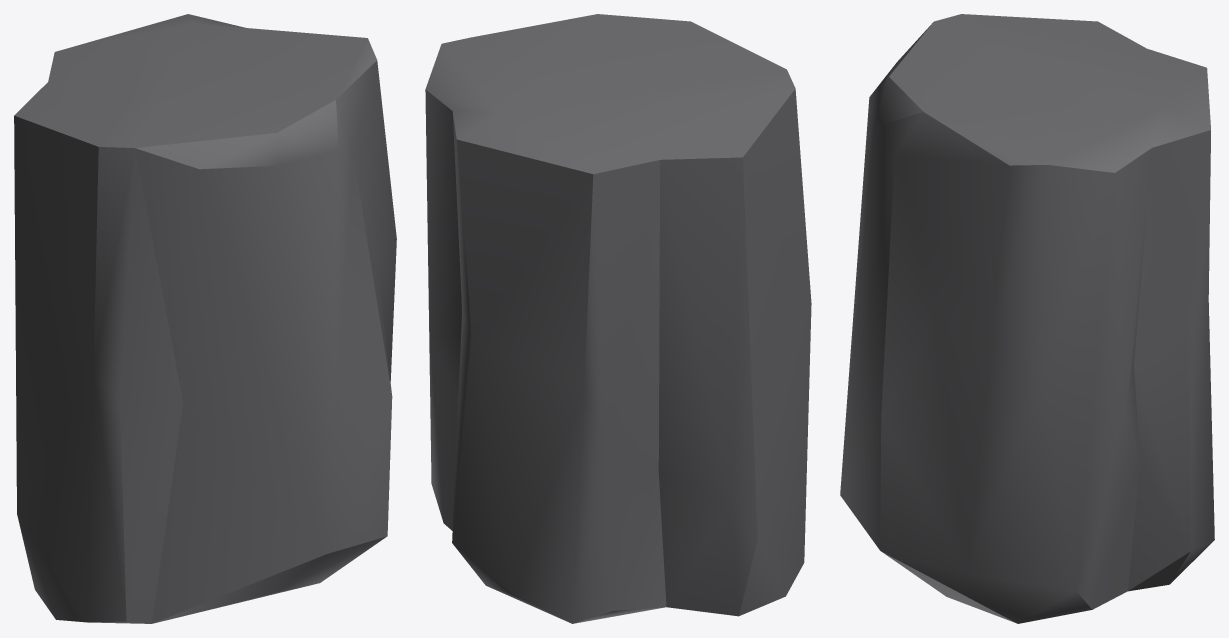
File: Stone_18.fbx
3 renders of one model, left to right at view 1: azimuth 30°, elevation 25°; view 2: azimuth 150°, elevation 25°; view 3: azimuth 270°, elevation 25°, orthographic.
Visible parts, largest first — view 1: Stone_18; view 2: Stone_18; view 3: Stone_18.
Boxes of the visible parts, x1=… form: Stone_18: x1=14, y1=14, x2=396, y2=623; Stone_18: x1=425, y1=14, x2=811, y2=623; Stone_18: x1=840, y1=14, x2=1214, y2=623.
Size of the model in its own units: 197 by 273 by 189.
